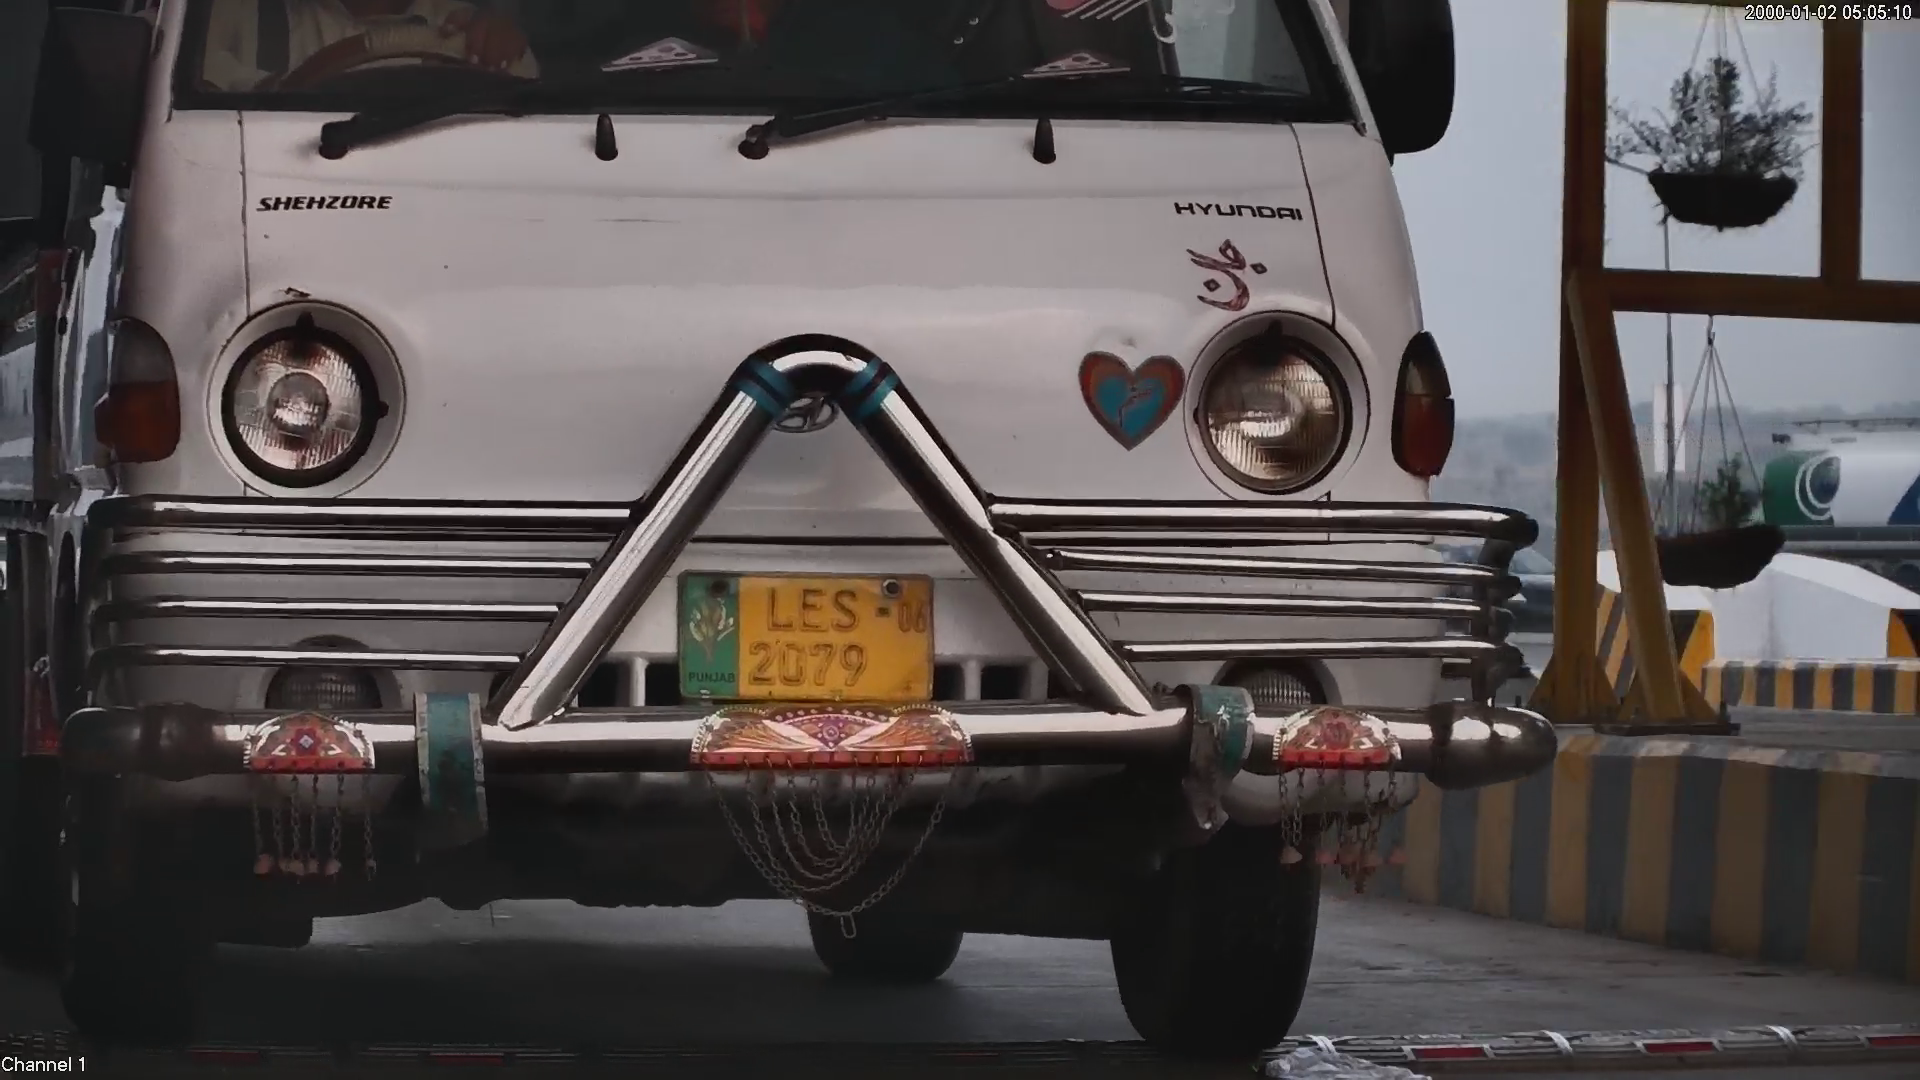Number_Plate: (666, 558, 945, 718)
